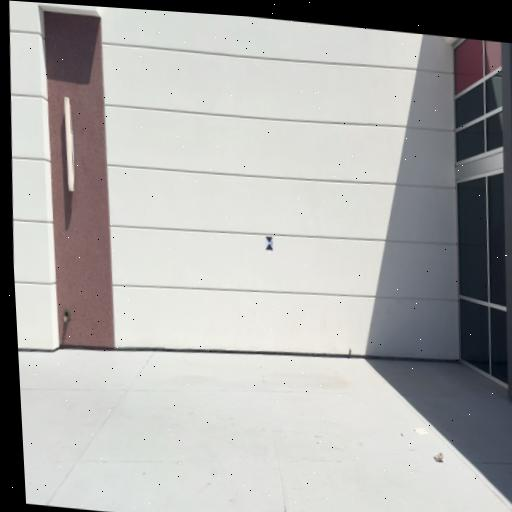target7: (265, 236, 274, 249)
